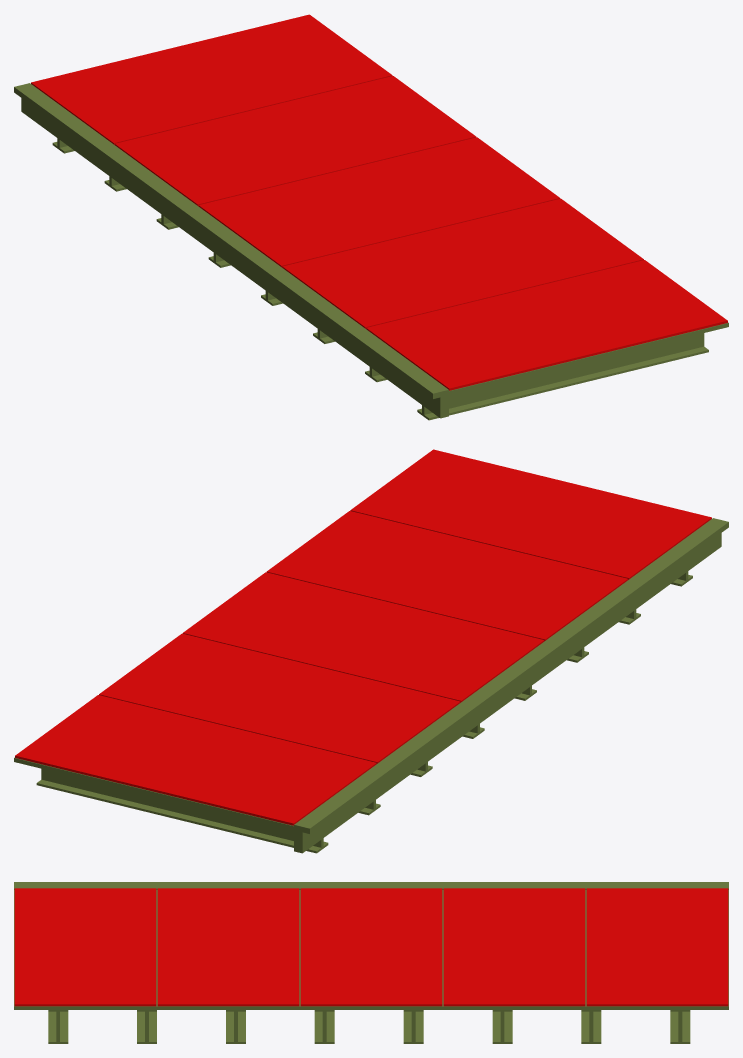
Rendered from UpperFloor.fbx.
3 views of the same model, one above another, from view 1: azimuth 30°, elevation 25°; view 2: azimuth 150°, elevation 25°; view 3: azimuth 270°, elevation 25° (orthographic). The views are drawn at different scales.
Visible parts, largest first — view 1: UpperFloor; view 2: UpperFloor; view 3: UpperFloor.
Part boxes in pixels (bbox=[...]): UpperFloor: bbox=[14, 14, 728, 420]; UpperFloor: bbox=[14, 449, 728, 853]; UpperFloor: bbox=[14, 882, 728, 1043].
Size of the model in its own units: 328 by 48.78 by 805.
